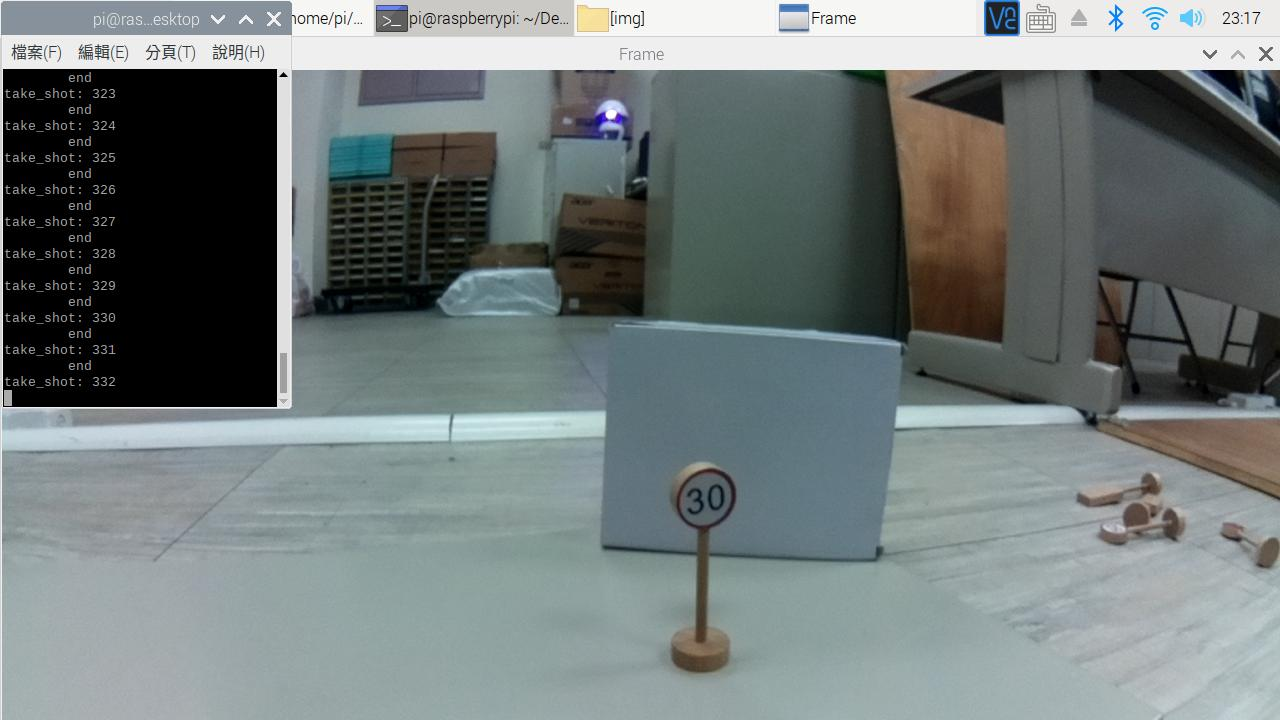Speed30: (660, 451, 747, 544)
